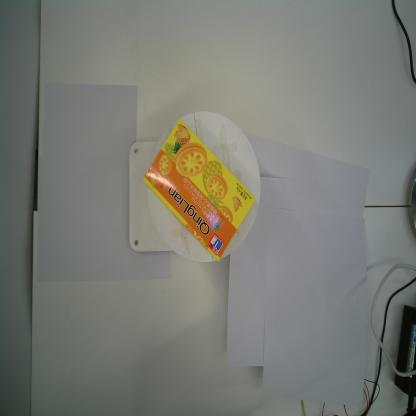Dessert: (140, 116, 257, 264)
